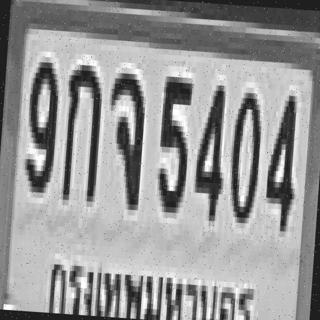A01: (59, 59, 102, 196)
A08: (102, 64, 146, 202)
N00: (227, 86, 262, 218)
N04: (191, 78, 226, 215), (262, 89, 297, 226)
N05: (154, 70, 191, 208)
N09: (22, 56, 58, 188)
P04: (41, 247, 261, 320)
